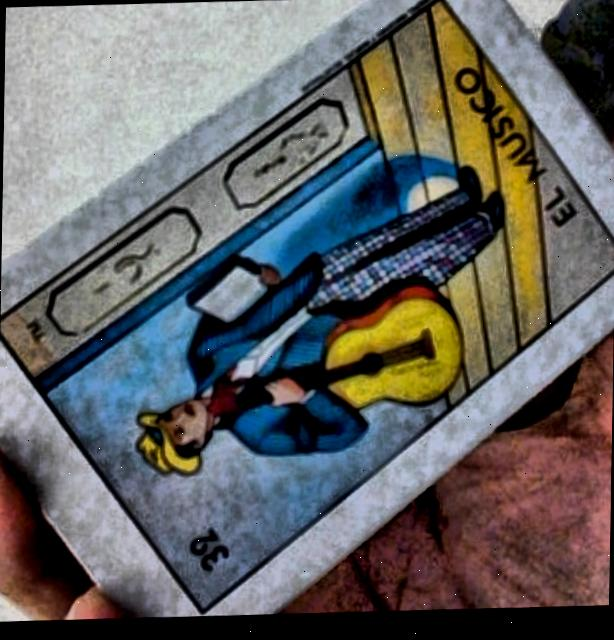El Musico: (0, 5, 614, 609)
